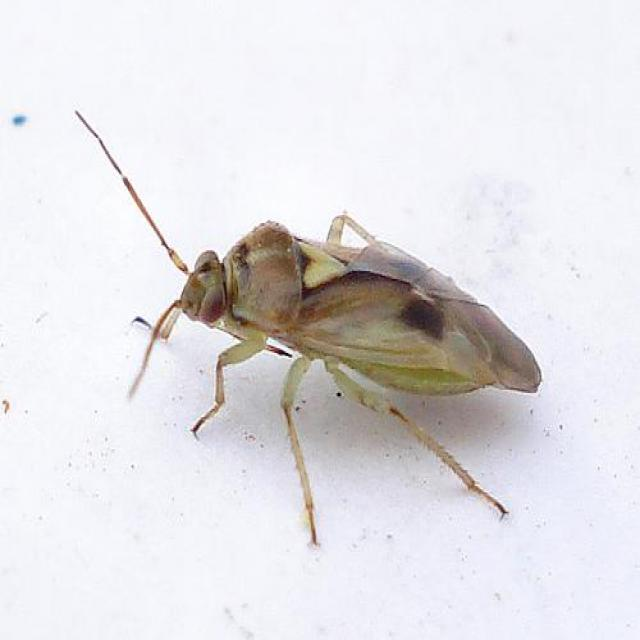Miridae-Adult-: (67, 85, 558, 552)
